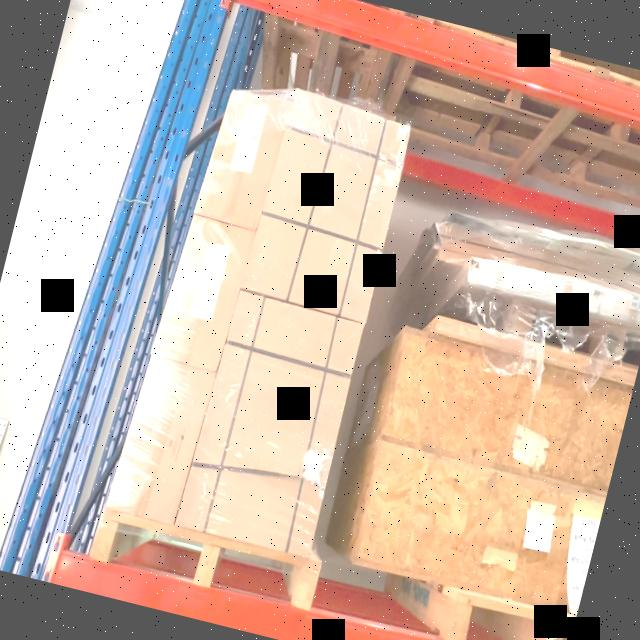box: (180, 295, 362, 558), (245, 97, 410, 321), (112, 357, 212, 523), (159, 216, 251, 370), (202, 88, 288, 228)
